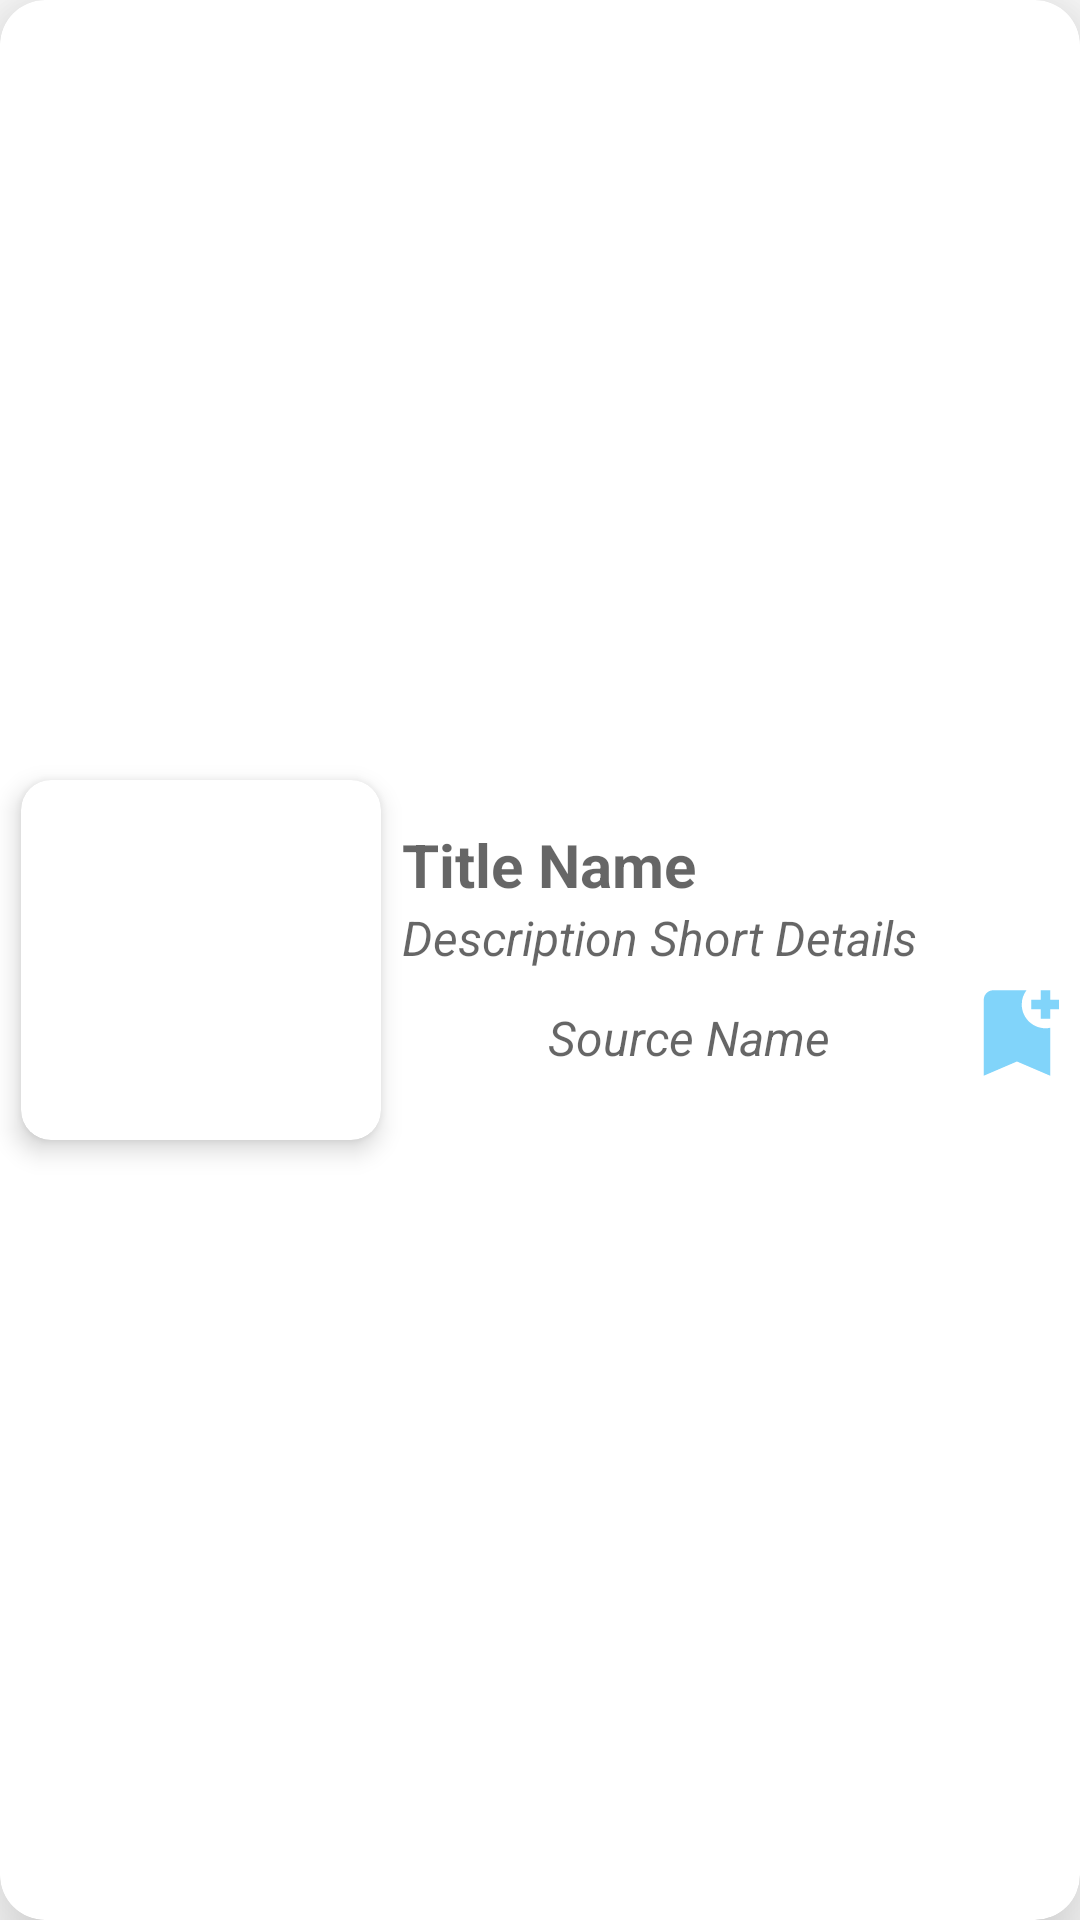

Locate icon controls on the screen. Image size 1080×1920, boxes as (x1, y1, x2, y2).
bookmark button: (983, 990, 1059, 1076)
